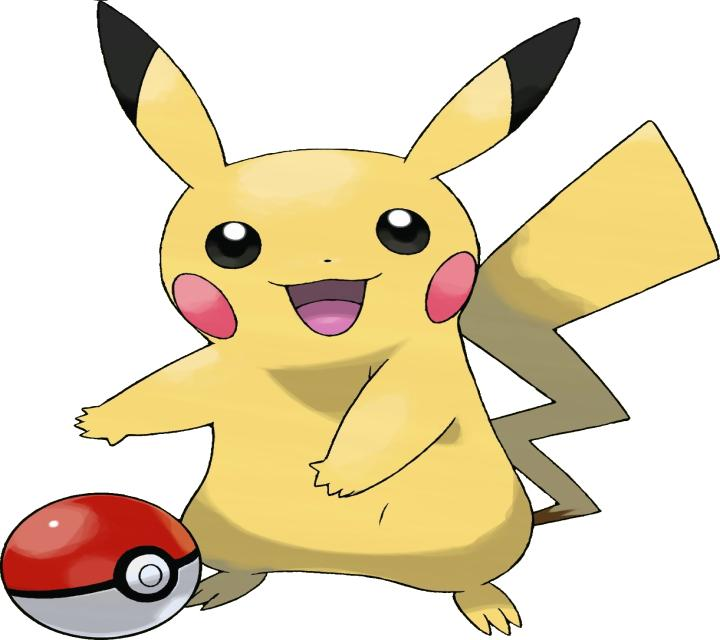Pikachu: (57, 3, 720, 634)
